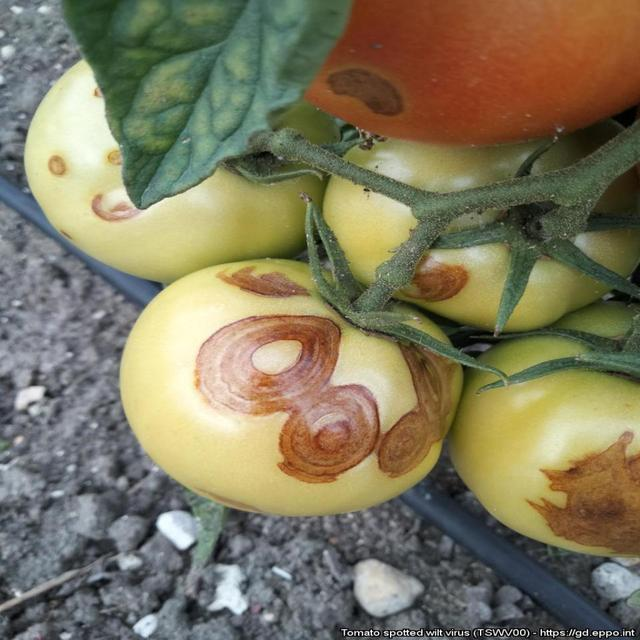Spotted wilt Virus Fruit: (118, 108, 368, 297)
